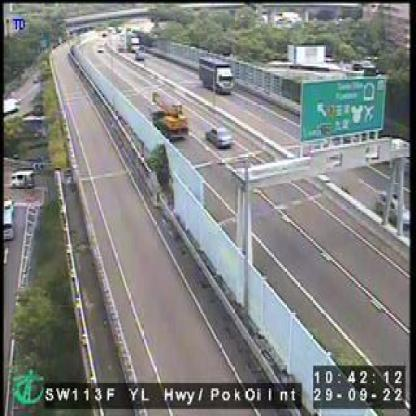Car: (203, 125, 234, 149)
Truck: (150, 87, 192, 142), (198, 54, 233, 92)
